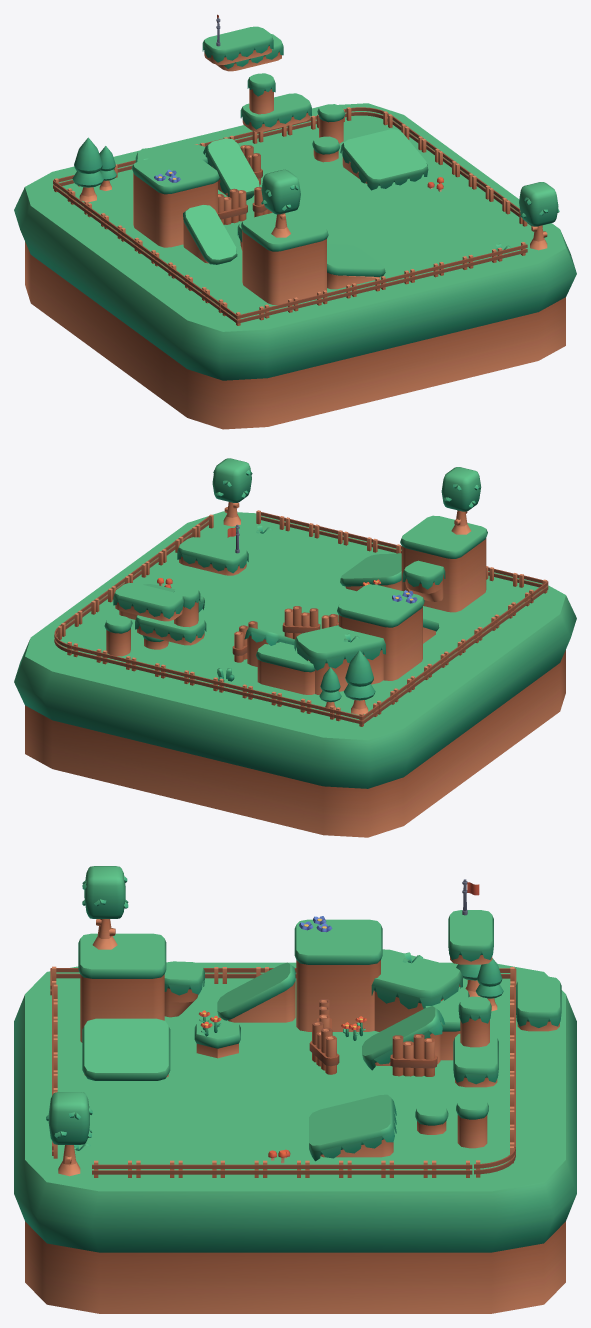
Rendered from Level1.glb.
3 renders of one model, top to bottom at view 1: azimuth 30°, elevation 25°; view 2: azimuth 150°, elevation 25°; view 3: azimuth 270°, elevation 25°, orthographic. The views are drawn at different scales.
Parts seen in each view (by area): view 1: block-grass-low-large.001, block-grass-large-tall.002, block-grass-large-tall.001, block-grass-overhang-large-slope.001, fence-straight.003, block-grass-large-slope-steep-narrow.001, block-grass-overhang-large-slope-steep-narrow.001, block-grass-overhang-low-long.003, block-grass-large-slope.001, fence-straight.001, tree.002, tree.001 (+10 smaller); view 2: block-grass-low-large.001, block-grass-large-tall.002, block-grass-large-tall.001, block-grass-overhang-long.001, fence-straight.002, block-grass-long.001, block-grass-overhang-low-long.002, block-grass-overhang-low-long.003, fence-straight.003, fence-straight.001, tree.002, tree.001 (+12 smaller); view 3: block-grass-low-large.001, block-grass-large-tall.001, block-grass-large-tall.002, block-grass-large-slope.001, block-grass-overhang-large-slope.001, block-grass-overhang-long.001, fence-straight.004, block-grass-large-slope-steep-narrow.001, tree.001, tree.002, block-grass-overhang-low-long.002, block-grass-overhang-low-long.003 (+14 smaller).
Part boxes in pixels (bbox=[...]): block-grass-low-large.001: bbox=[14, 103, 576, 429]; block-grass-large-tall.002: bbox=[241, 209, 328, 304]; block-grass-large-tall.001: bbox=[132, 151, 219, 247]; block-grass-overhang-large-slope.001: bbox=[340, 129, 428, 190]; fence-straight.003: bbox=[264, 242, 527, 318]; block-grass-large-slope-steep-narrow.001: bbox=[183, 205, 237, 264]; block-grass-overhang-large-slope-steep-narrow.001: bbox=[203, 138, 259, 200]; block-grass-overhang-low-long.003: bbox=[202, 26, 273, 65]; block-grass-large-slope.001: bbox=[327, 244, 385, 289]; fence-straight.001: bbox=[68, 191, 223, 313]; tree.002: bbox=[519, 182, 559, 250]; tree.001: bbox=[261, 169, 300, 237]; block-grass-low-large.001: bbox=[14, 511, 576, 837]; block-grass-large-tall.002: bbox=[400, 515, 487, 612]; block-grass-large-tall.001: bbox=[337, 584, 424, 680]; block-grass-overhang-long.001: bbox=[294, 625, 385, 694]; fence-straight.002: bbox=[71, 643, 334, 719]; block-grass-long.001: bbox=[256, 642, 315, 694]; block-grass-overhang-low-long.002: bbox=[113, 582, 184, 621]; block-grass-overhang-low-long.003: bbox=[177, 537, 248, 575]; fence-straight.003: bbox=[256, 510, 519, 586]; fence-straight.001: bbox=[377, 592, 531, 714]; tree.002: bbox=[212, 458, 252, 526]; tree.001: bbox=[441, 467, 481, 534]; block-grass-low-large.001: bbox=[14, 962, 576, 1313]; block-grass-large-tall.001: bbox=[294, 919, 382, 1031]; block-grass-large-tall.002: bbox=[78, 933, 166, 1042]; block-grass-large-slope.001: bbox=[82, 1018, 170, 1080]; block-grass-overhang-large-slope.001: bbox=[309, 1094, 396, 1161]; block-grass-overhang-long.001: bbox=[371, 949, 462, 1031]; fence-straight.004: bbox=[92, 1160, 472, 1177]; block-grass-large-slope-steep-narrow.001: bbox=[217, 962, 295, 1022]; tree.001: bbox=[82, 866, 128, 949]; tree.002: bbox=[46, 1092, 92, 1176]; block-grass-overhang-low-long.002: bbox=[516, 976, 561, 1031]; block-grass-overhang-low-long.003: bbox=[448, 910, 493, 964].
Bounding box in the file's own units: 13.33 × 8.2 × 13.33.
1 material, 1 textured.
